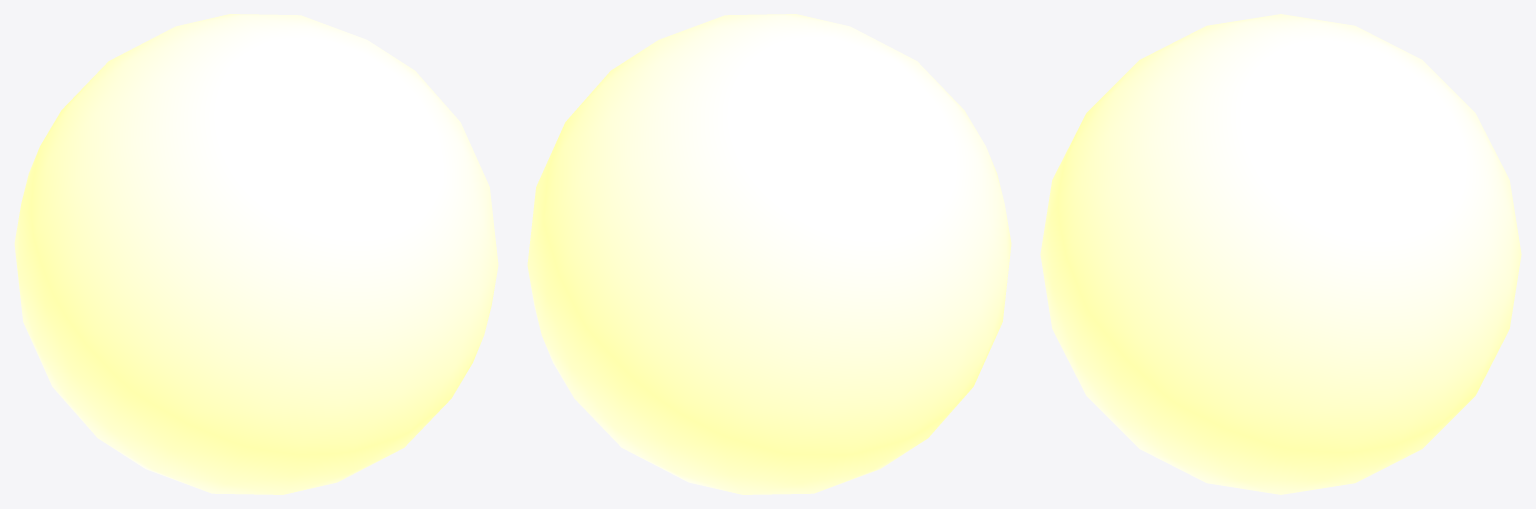
The model's file is sun.glb.
The picture shows the model from 3 angles, left to right: view 1: azimuth 30°, elevation 25°; view 2: azimuth 150°, elevation 25°; view 3: azimuth 270°, elevation 25°; orthographic projection.
Visible parts, largest first — view 1: Icosphere; view 2: Icosphere; view 3: Icosphere.
Part boxes in pixels (x1,y1,x2,y2): Icosphere: (14,14,498,494); Icosphere: (527,14,1011,494); Icosphere: (1040,14,1521,494).
Bounding box in the file's own units: 0.4 × 0.4 × 0.4.
